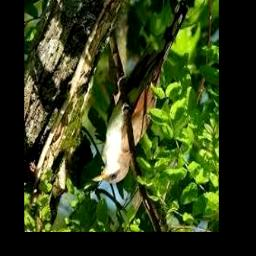Cuckoo: (92, 1, 187, 184)
